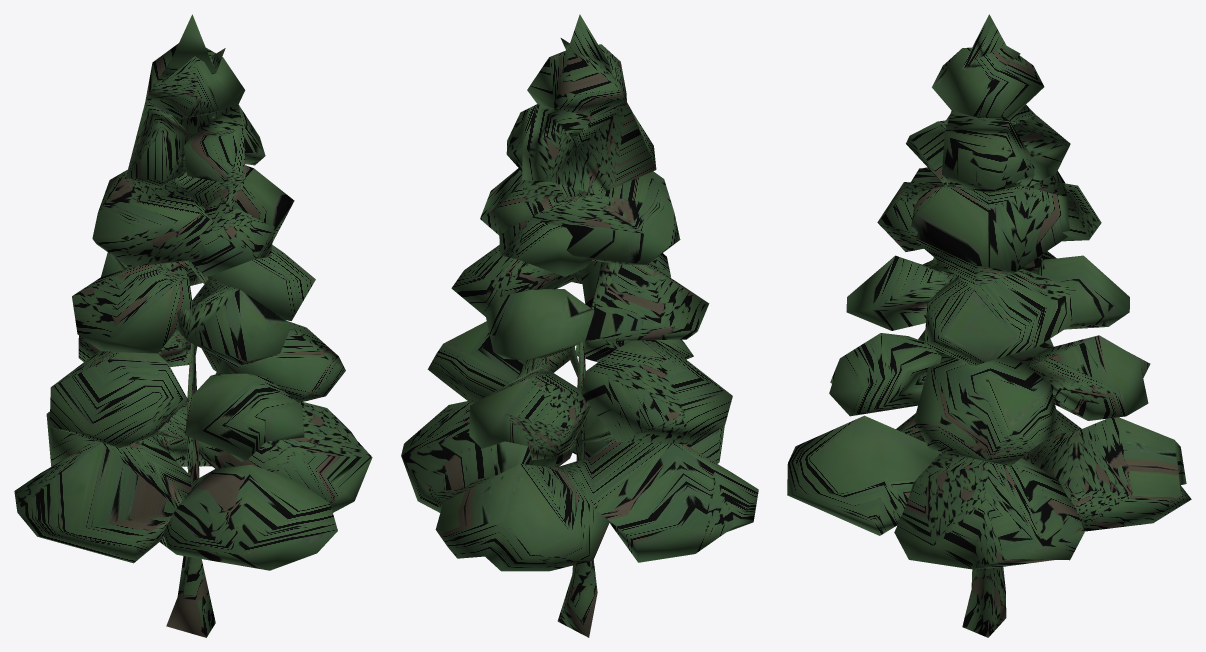
Rendered from pine_mid-mobile.glb.
The picture shows the model from 3 angles, left to right: view 1: azimuth 30°, elevation 25°; view 2: azimuth 150°, elevation 25°; view 3: azimuth 270°, elevation 25°; orthographic projection.
Visible parts, largest first — view 1: geometry_0; view 2: geometry_0; view 3: geometry_0.
Boxes of the visible parts, x1=… form: geometry_0: x1=14, y1=14, x2=372, y2=637; geometry_0: x1=401, y1=14, x2=758, y2=637; geometry_0: x1=787, y1=14, x2=1191, y2=637.
Bounding box in the file's own units: 0.5687 × 1 × 0.5985.
Materials: 1 (1 with a texture image).
